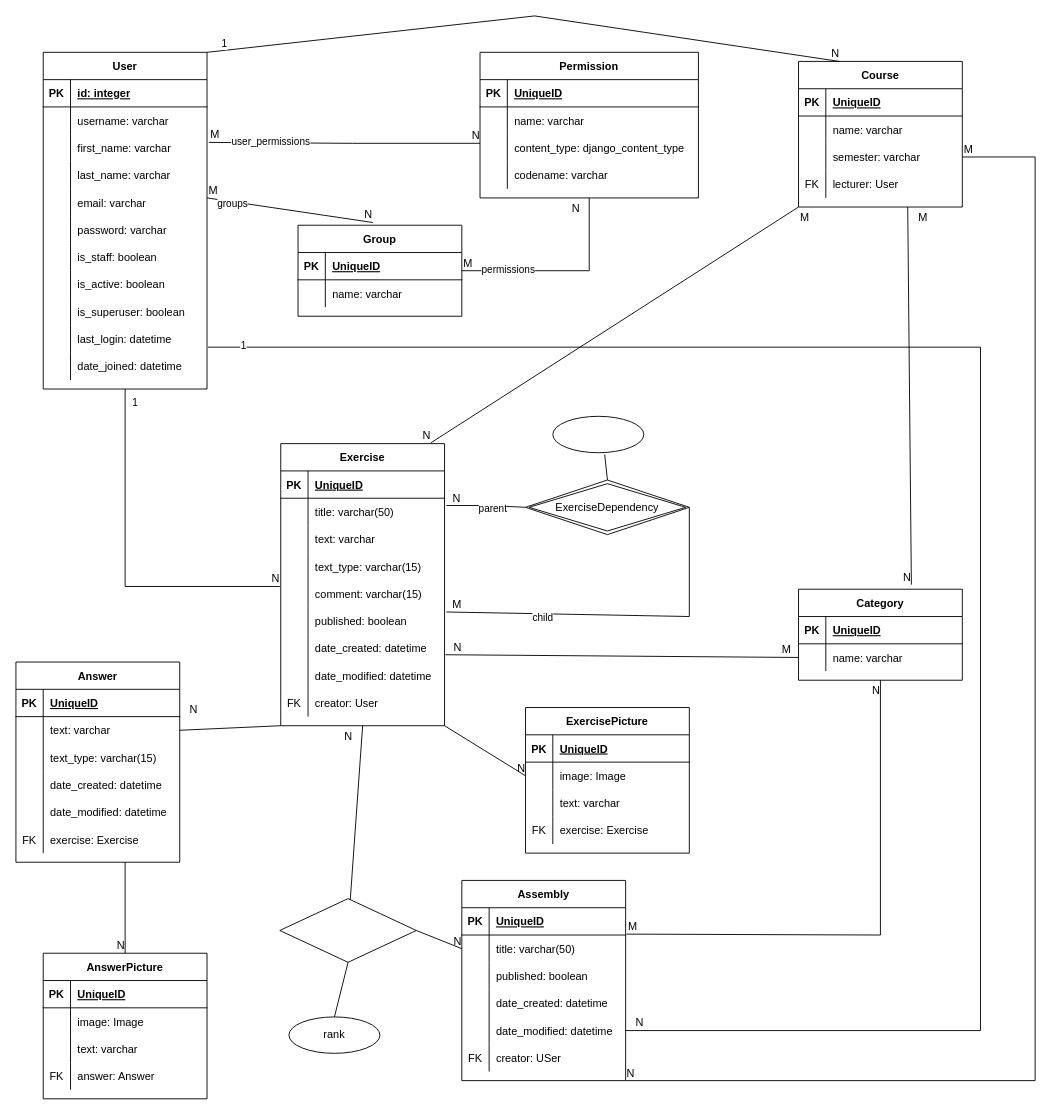
This 1052x1115 diagram has some shape labels left out. The centre of each missing label's shape, as x and y in pixels:
ExerciseAssembly: pixel 347 930
hierarchy: pixel 598 434
